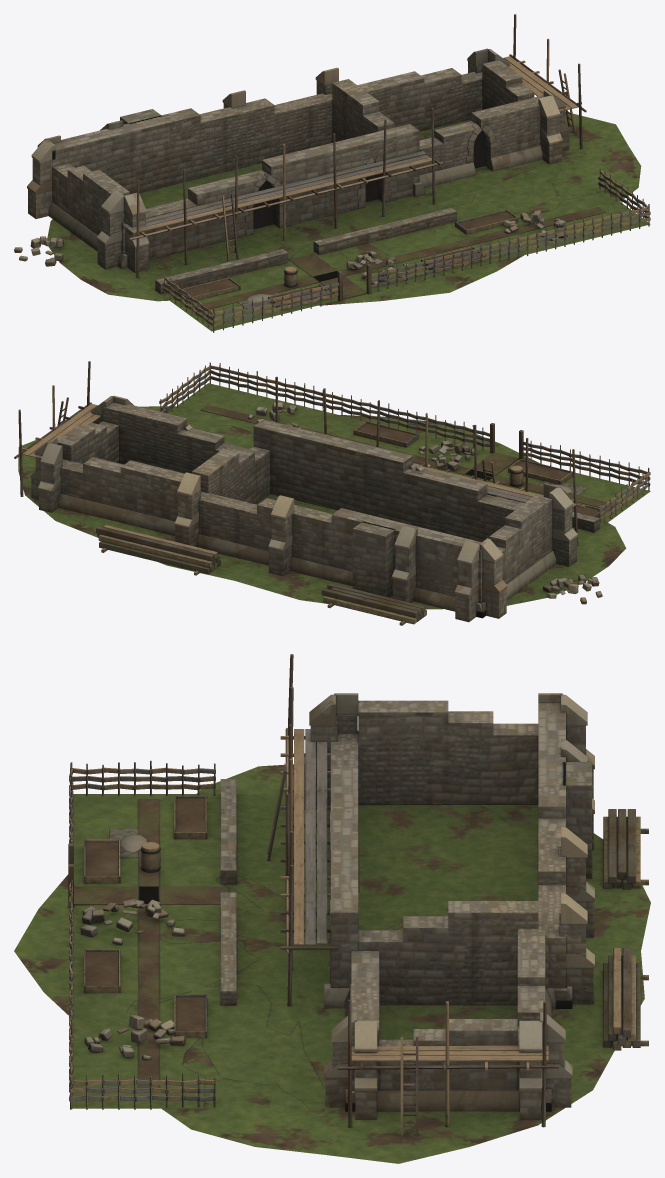
The model's file is temple_build2.glb.
The picture shows the model from 3 angles, top to bottom: view 1: azimuth 30°, elevation 25°; view 2: azimuth 150°, elevation 25°; view 3: azimuth 270°, elevation 25°; orthographic projection. The views are drawn at different scales.
Parts seen in each view (by area): view 1: temple_build2_LOD0; view 2: temple_build2_LOD0; view 3: temple_build2_LOD0.
Part boxes in pixels (box(x1,y1,x2,y2)): temple_build2_LOD0: box(14, 14, 650, 332); temple_build2_LOD0: box(14, 361, 650, 625); temple_build2_LOD0: box(14, 654, 650, 1163).
Size of what is drawn, in the model's own units: 28.78 by 4.65 by 18.41.
1 material, 1 textured.
